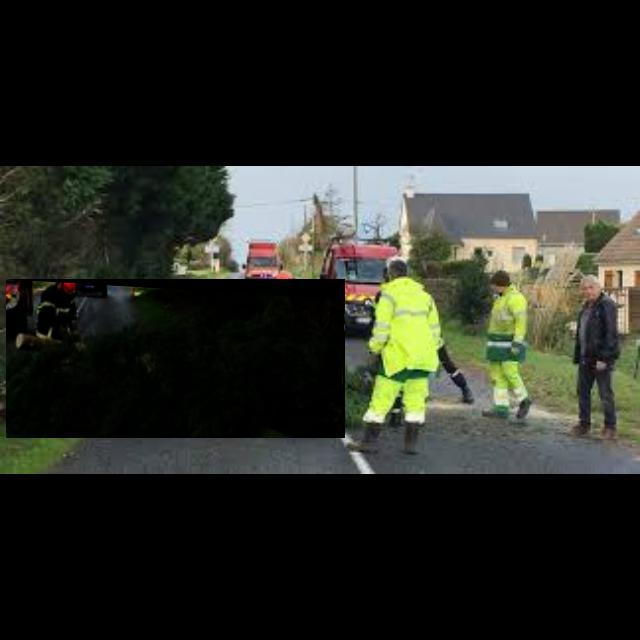fallen_tree: (6, 279, 346, 439)
